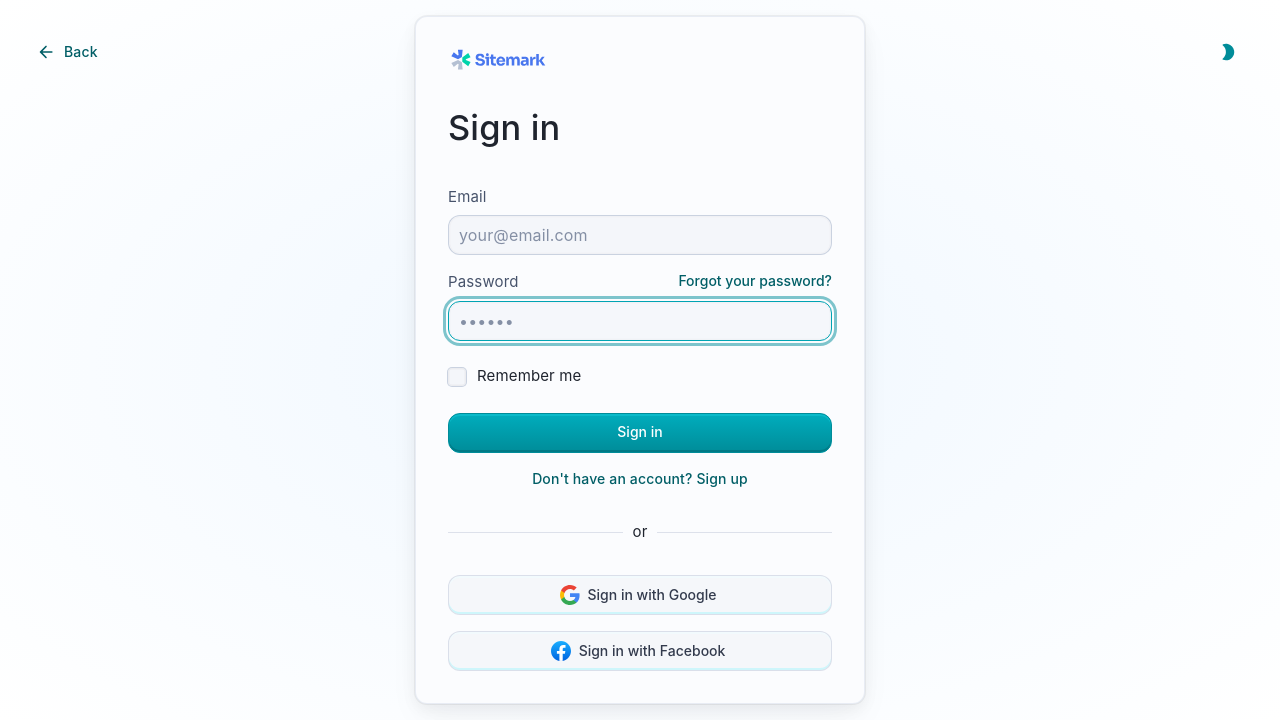
Scenario: SignIn › data validation › submission form › Email field › does not allow empty input
Step 1. Click the button "Sign in" → (640, 433), box [448,413,832,453]
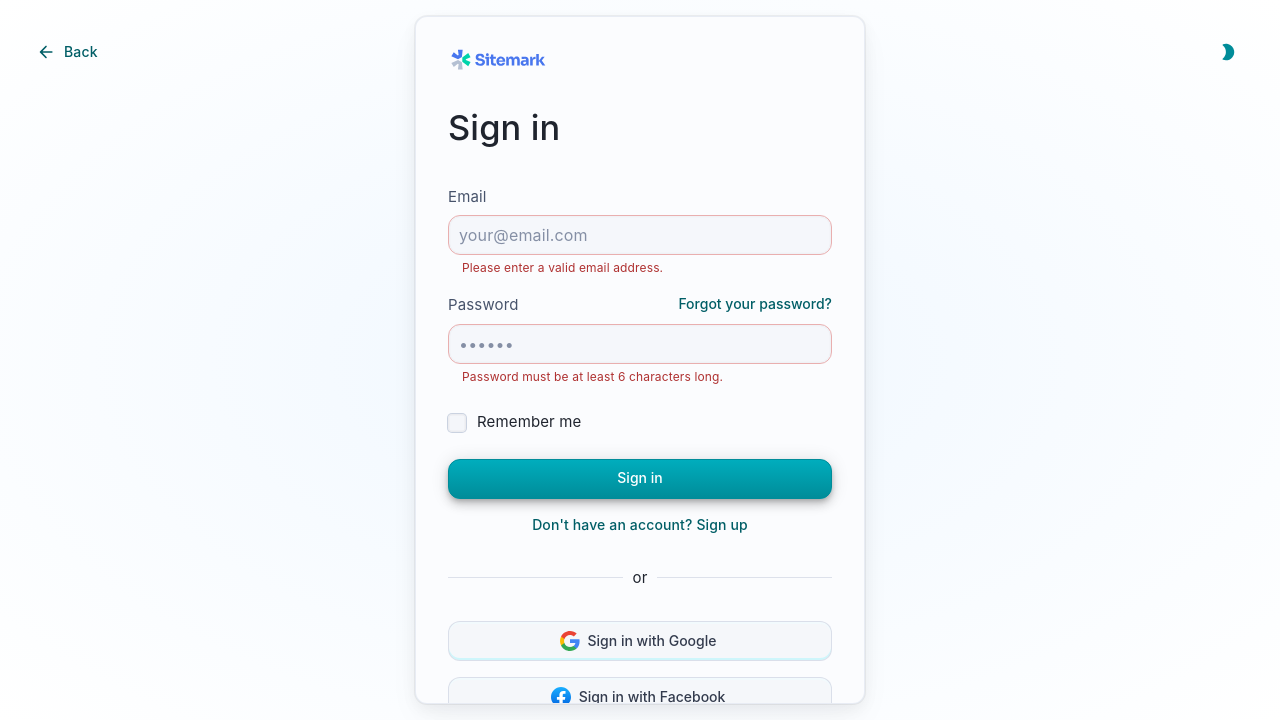
Result: the text "Please enter a valid email address." is shown at [462,260,663,275]
